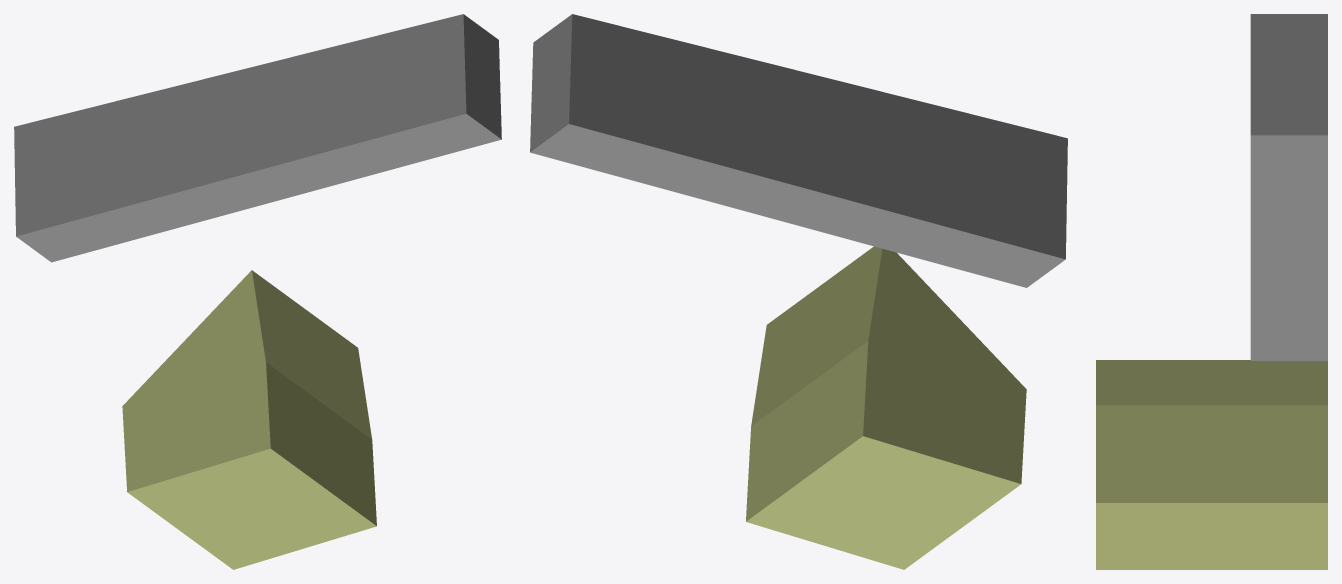
3 views of the same model, side by side, from view 1: azimuth 30°, elevation 25°; view 2: azimuth 150°, elevation 25°; view 3: azimuth 270°, elevation 25° (orthographic). The views are drawn at different scales.
Parts seen in each view (by area): view 1: 0_1_0_2_1_3_2_1_0_1; view 2: 0_1_0_2_1_3_2_1_0_1; view 3: 0_1_0_2_1_3_2_1_0_1.
Boxes of the visible parts, <box> form: 0_1_0_2_1_3_2_1_0_1: <box>14,14,501,569</box>; 0_1_0_2_1_3_2_1_0_1: <box>530,14,1067,569</box>; 0_1_0_2_1_3_2_1_0_1: <box>1096,14,1327,569</box>.
Bounding box in the file's own units: 22.12 × 18.51 × 9.
